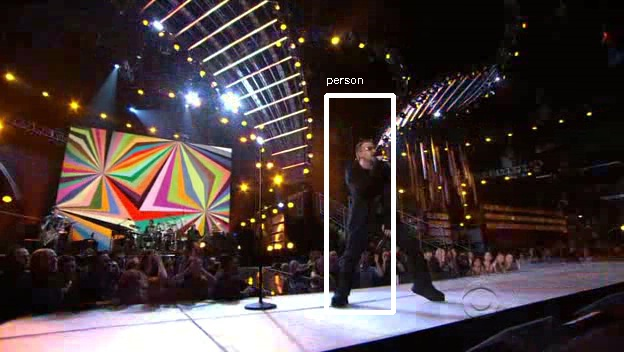person: (343, 141, 410, 243), (340, 141, 407, 243), (346, 141, 413, 243), (343, 138, 410, 240), (343, 144, 410, 246)
target_negative: (95, 168, 434, 260), (546, 144, 612, 347), (111, 98, 279, 158), (221, 286, 435, 322), (394, 260, 448, 320), (446, 145, 489, 205)
